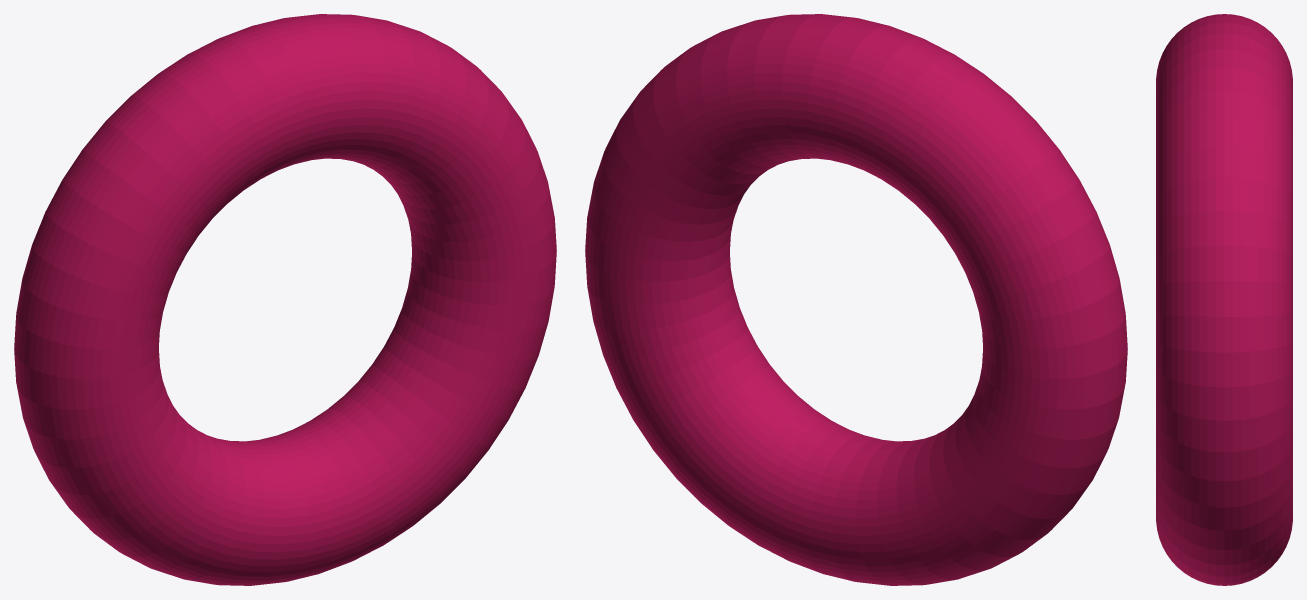
The picture shows the model from 3 angles, left to right: view 1: azimuth 30°, elevation 25°; view 2: azimuth 150°, elevation 25°; view 3: azimuth 270°, elevation 25°; orthographic projection. The views are drawn at different scales.
Parts seen in each view (by area): view 1: world; view 2: world; view 3: world.
Part boxes in pixels (bbox=[...]): world: bbox=[14, 14, 556, 585]; world: bbox=[585, 14, 1127, 585]; world: bbox=[1156, 14, 1292, 585].
Size of the model in its own units: 35.07 by 35 by 8.38.
